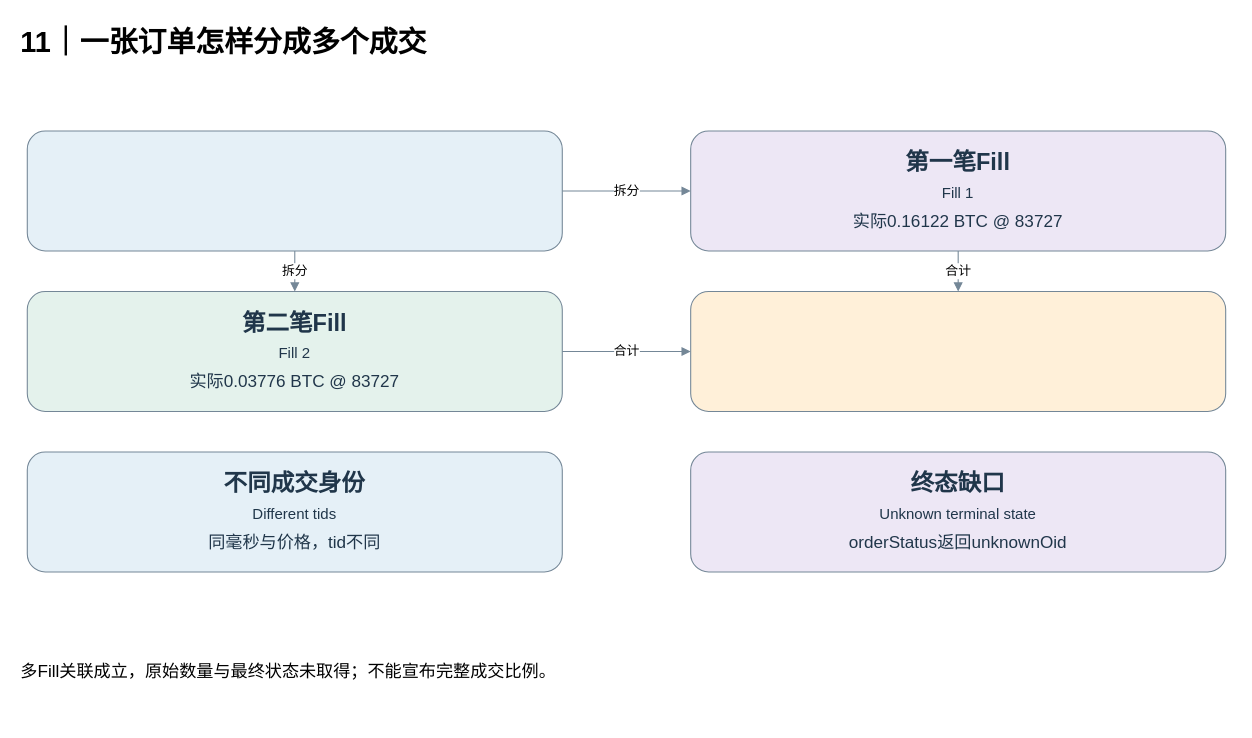
This 1252x738 diagram has some shape labels left out. The centre of each missing label's shape, as x and y in pixels:
"同一订单 One order 实际oid：572798292348" goes at point (294, 190).
"已观察执行量 Observed size 精确合计0.19898 BTC" goes at point (958, 351).
